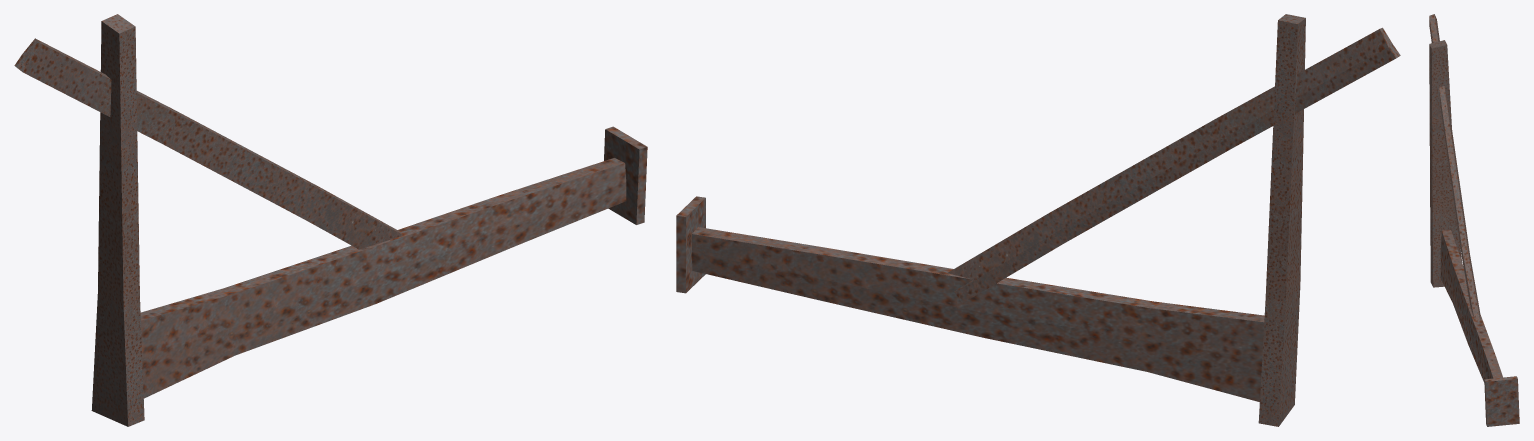
File: SM_Chateaux_04_05.fbx
3 renders of one model, left to right at view 1: azimuth 30°, elevation 25°; view 2: azimuth 150°, elevation 25°; view 3: azimuth 270°, elevation 25°, orthographic. The views are drawn at different scales.
Visible parts, largest first — view 1: SM_Chateaux_04_05; view 2: SM_Chateaux_04_05; view 3: SM_Chateaux_04_05.
Boxes of the visible parts, left/top/right/bottom form: SM_Chateaux_04_05: left=14, top=14, right=647, bottom=426; SM_Chateaux_04_05: left=676, top=14, right=1400, bottom=426; SM_Chateaux_04_05: left=1429, top=14, right=1519, bottom=426.
Size of the model in its own units: 593 by 344 by 116.
